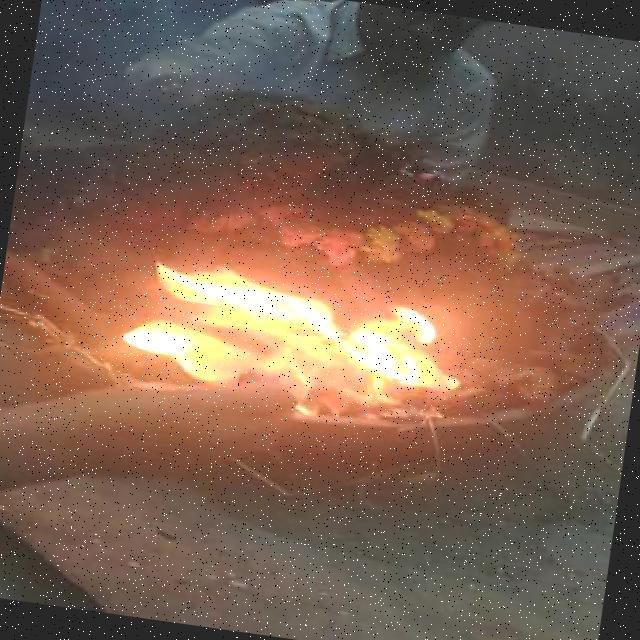Fire: (127, 255, 474, 430)
Smoke: (70, 72, 197, 148)
